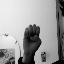e: (22, 24, 43, 55)
